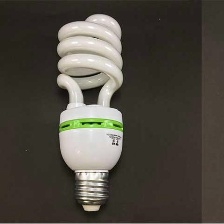light_bulb: (50, 6, 131, 217)
